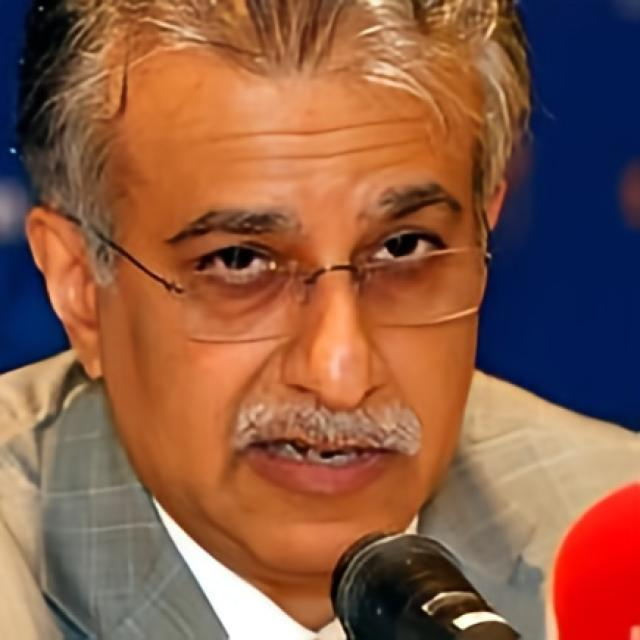disgust: (96, 15, 486, 574)
